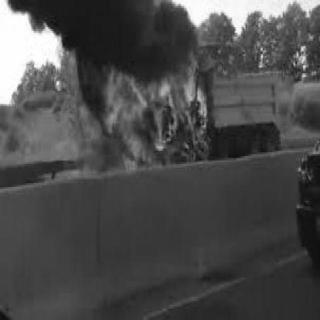Fire: (78, 51, 220, 170)
Smoke: (10, 0, 189, 64)
